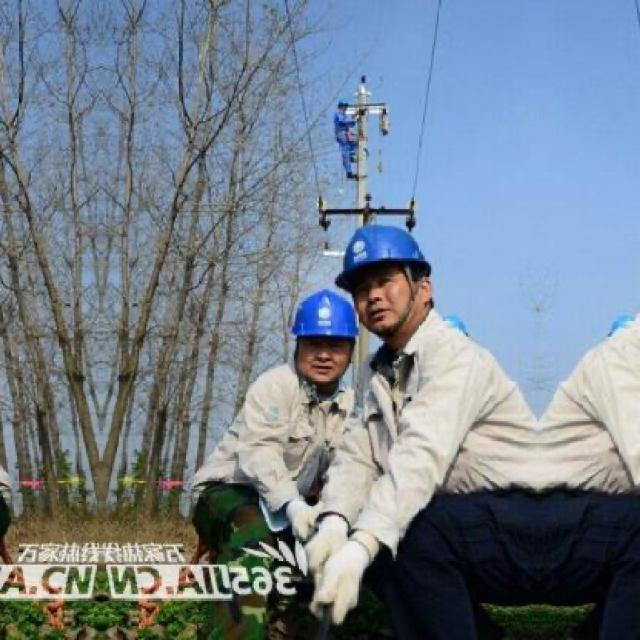con casco: (347, 218, 455, 350), (247, 288, 410, 374)
